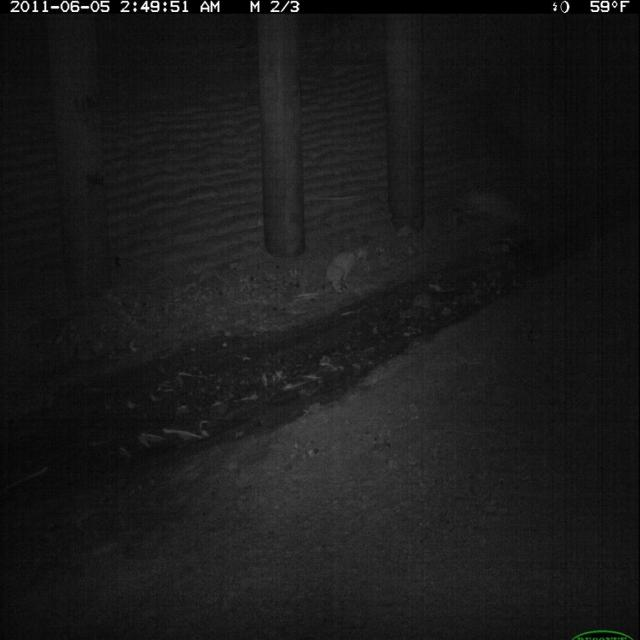bobcat: (320, 241, 374, 299)
